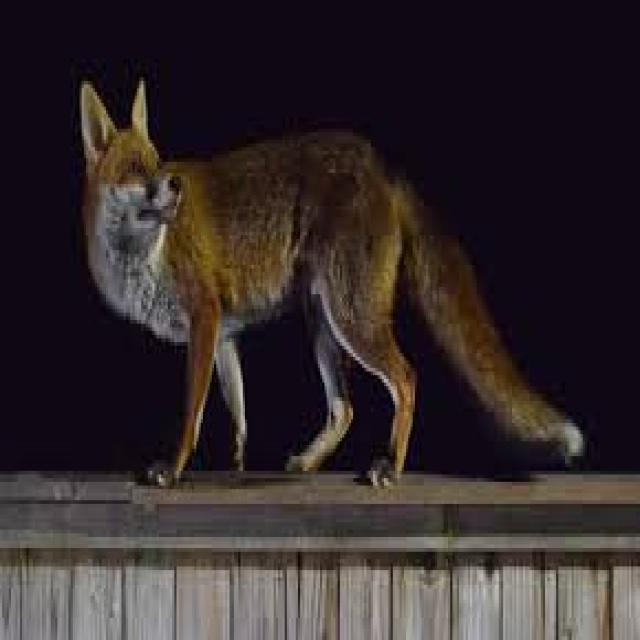fox: (77, 74, 587, 489)
